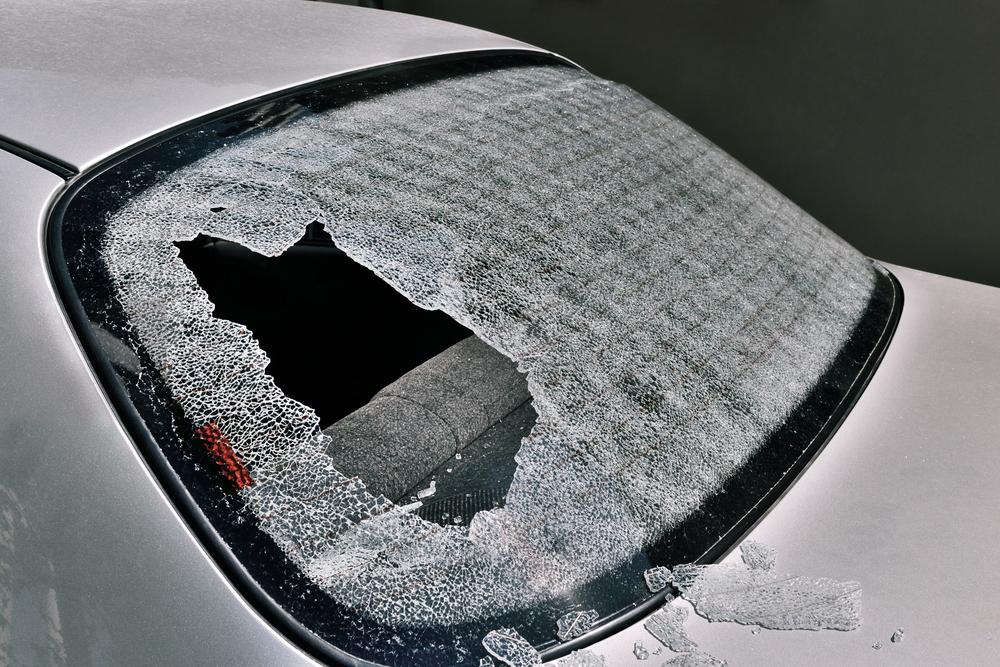glass shatter: (61, 50, 896, 667)
